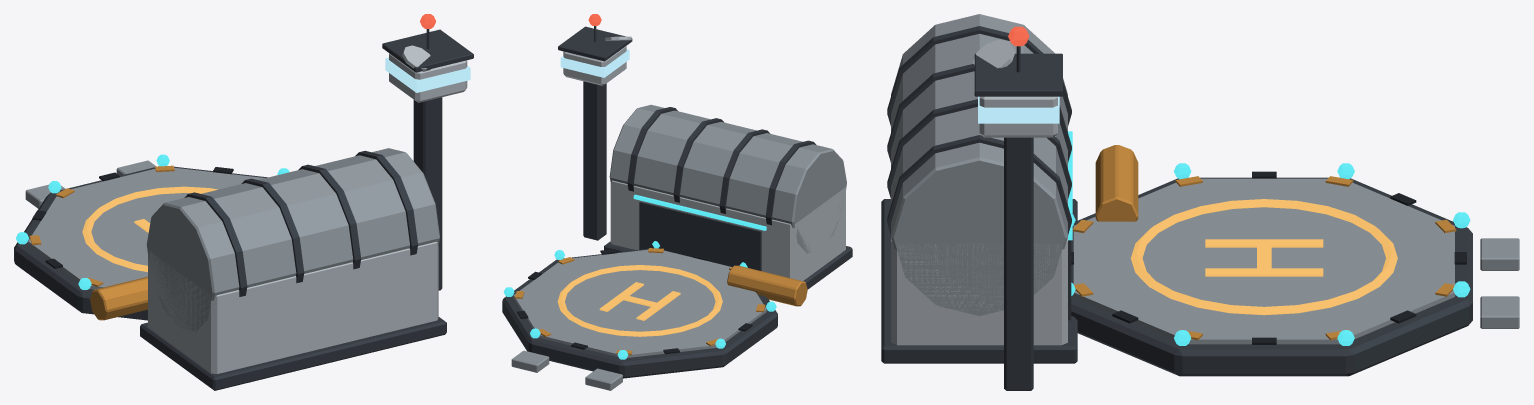
The model's file is exo-airpad.glb.
3 renders of one model, left to right at view 1: azimuth 30°, elevation 25°; view 2: azimuth 150°, elevation 25°; view 3: azimuth 270°, elevation 25°, orthographic. The views are drawn at different scales.
Parts seen in each view (by area): view 1: body; view 2: body; view 3: body.
Boxes of the visible parts, box(x1,y1,x2,y2) form: body: box(14, 14, 473, 390); body: box(502, 14, 852, 390); body: box(881, 14, 1519, 390).
Bounding box in the file's own units: 9.9 × 8.07 × 13.
